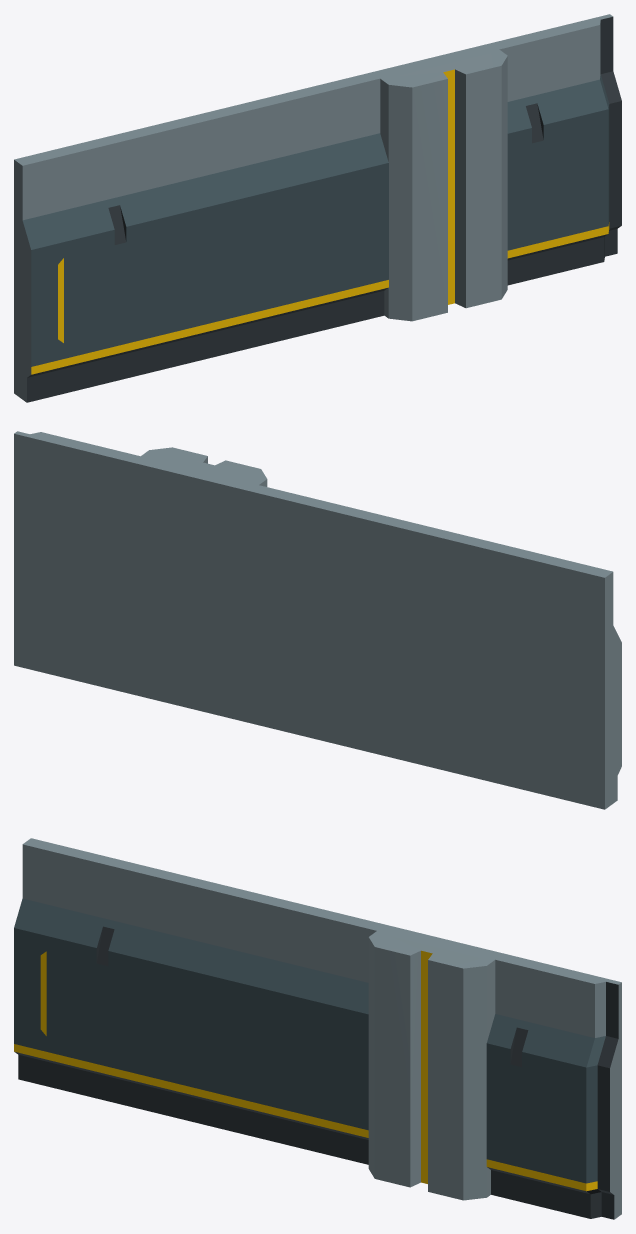
File: Wall_type_C_040.glb
3 renders of one model, top to bottom at view 1: azimuth 30°, elevation 25°; view 2: azimuth 150°, elevation 25°; view 3: azimuth 330°, elevation 25°, orthographic.
Visible parts, largest first — view 1: Wall_type_C_040; view 2: Wall_type_C_040; view 3: Wall_type_C_040.
Part boxes in pixels (bbox=[...]): Wall_type_C_040: bbox=[14, 14, 621, 402]; Wall_type_C_040: bbox=[14, 431, 621, 809]; Wall_type_C_040: bbox=[14, 838, 621, 1219].
Bounding box in the file's own units: 4 × 1.5 × 0.3.
1 material, 1 textured.
